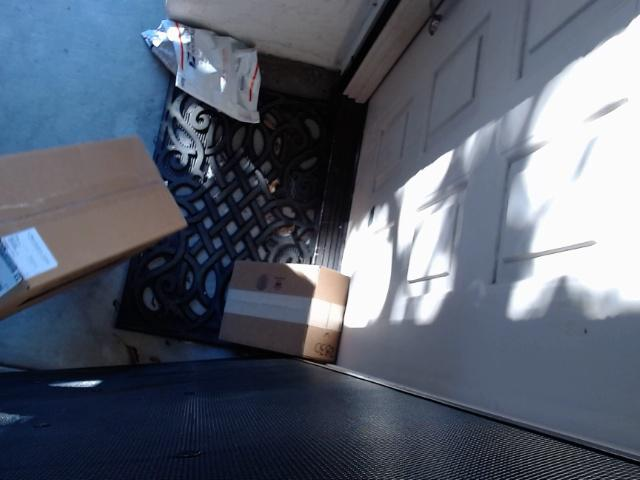box: (0, 133, 187, 322), (219, 259, 350, 363)
plastic_bag: (139, 18, 259, 124)
